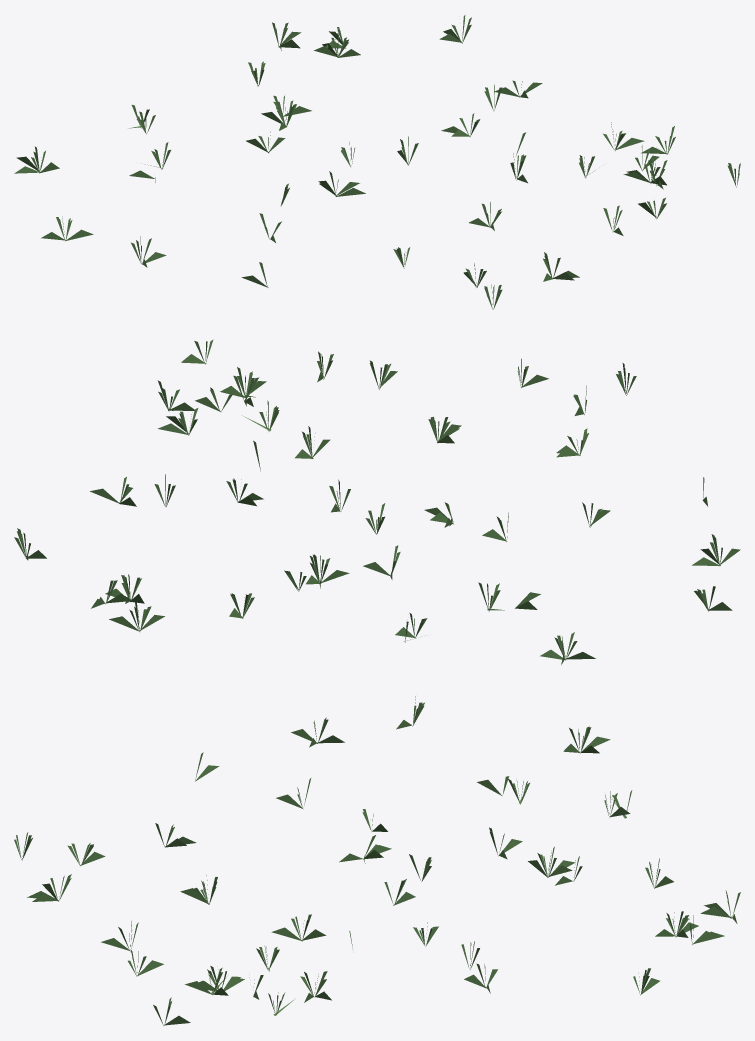
Rendered from teaching3-vegetation-17-far.glb.
3 views of the same model, one above another, from view 1: azimuth 30°, elevation 25°; view 2: azimuth 150°, elevation 25°; view 3: azimuth 270°, elevation 25° (orthographic). The views are drawn at different scales.
Parts seen in each view (by area): view 1: mondo grass; view 2: mondo grass; view 3: mondo grass.
Part boxes in pixels (x1,y1,x2,y2): mondo grass: (14,15,740,309); mondo grass: (14,339,740,664); mondo grass: (14,696,740,1025).
Size of the model in its own units: 11.17 by 0.4838 by 10.8.
